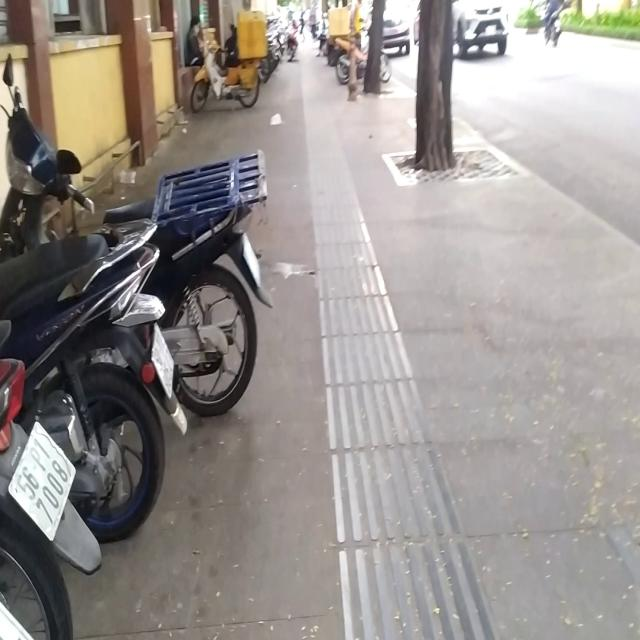bien_trang: (7, 402, 79, 558)
